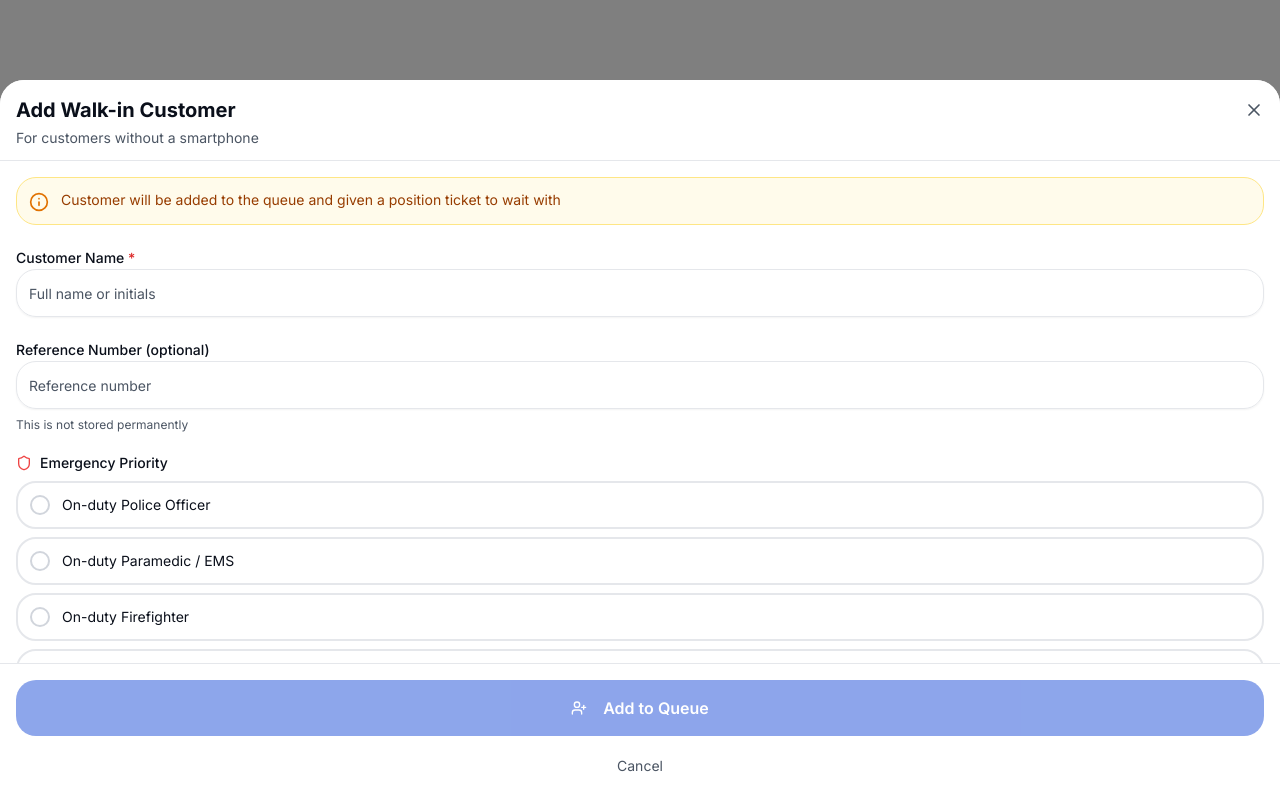
Test: AddWalkInModal › shows session walk-ins after successful add
Type "Thabo" into the field with placeholder "Full name or initials" at (640, 293), box [16,269,1264,317]
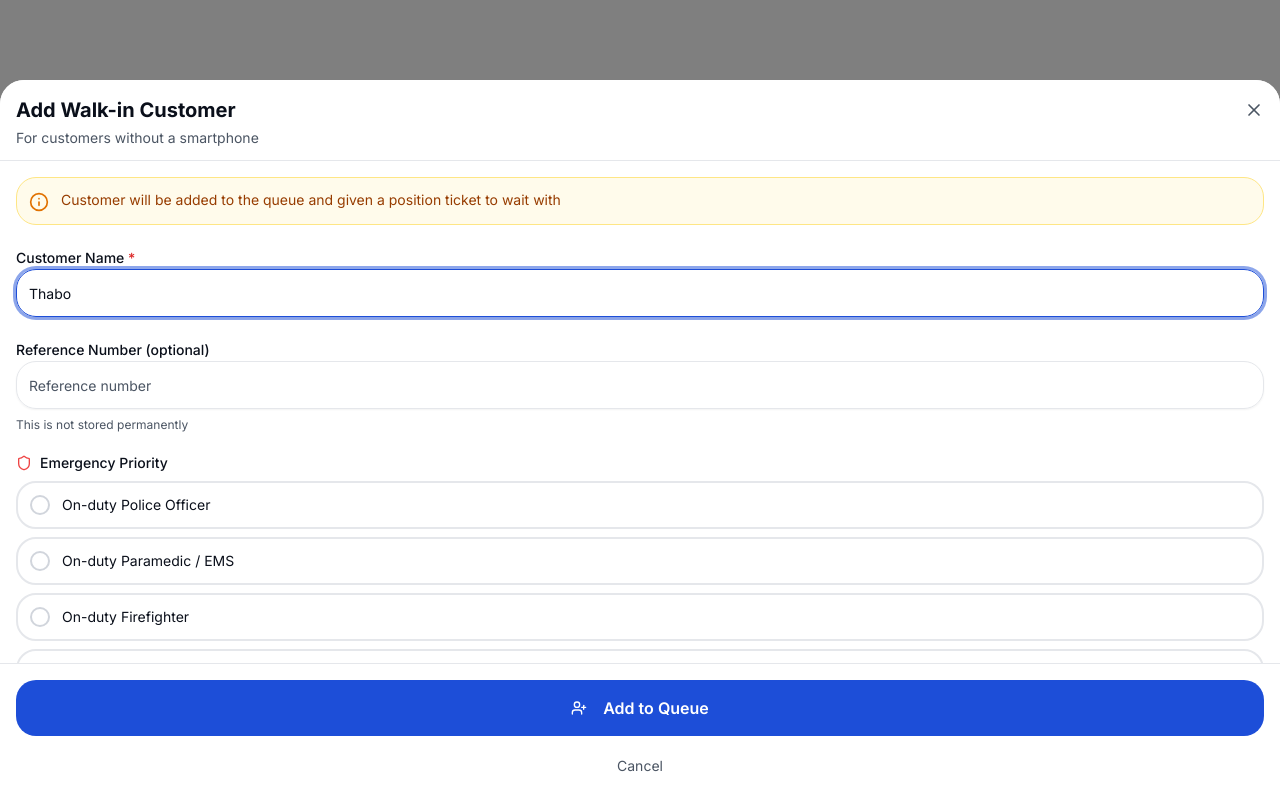
Click the button "Add to Queue" at (640, 708), box [16,680,1264,736]
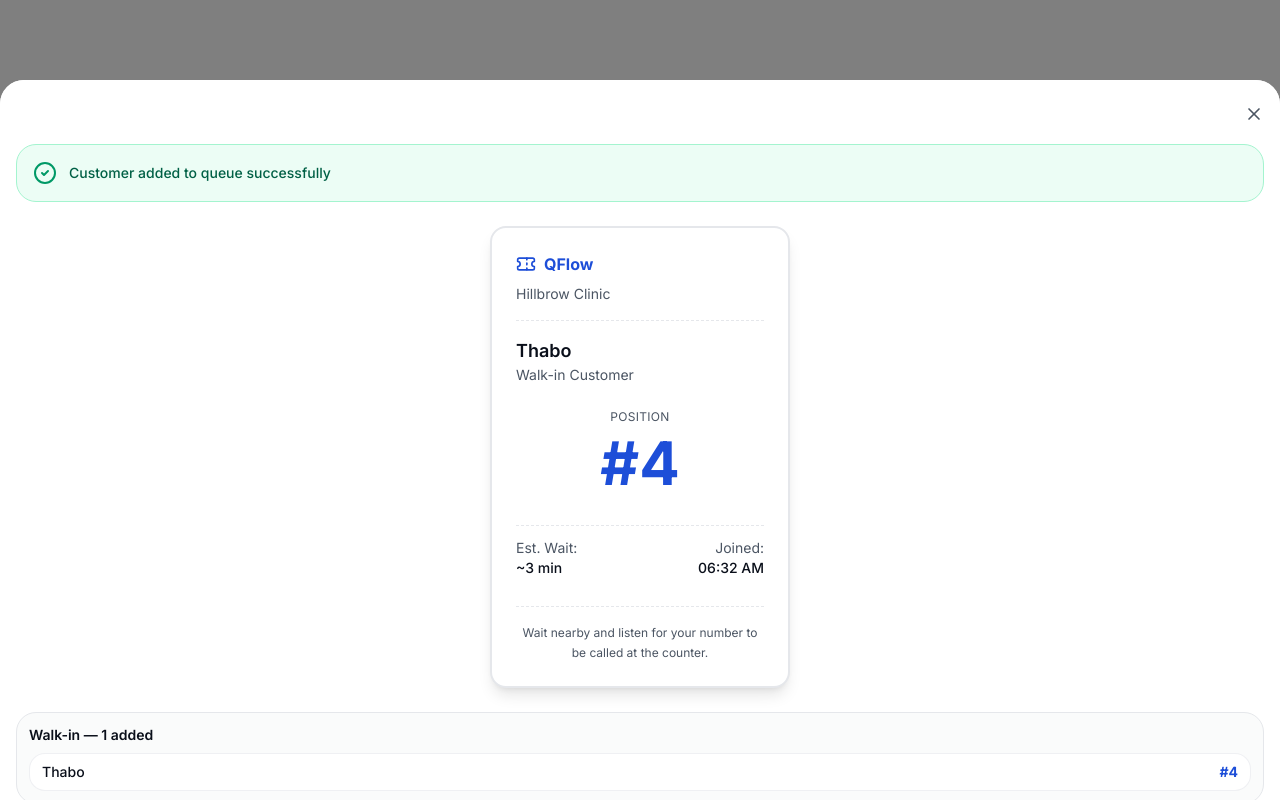
Check: the text "Walk-in — 1 added" is shown, box [29,726,153,743]
